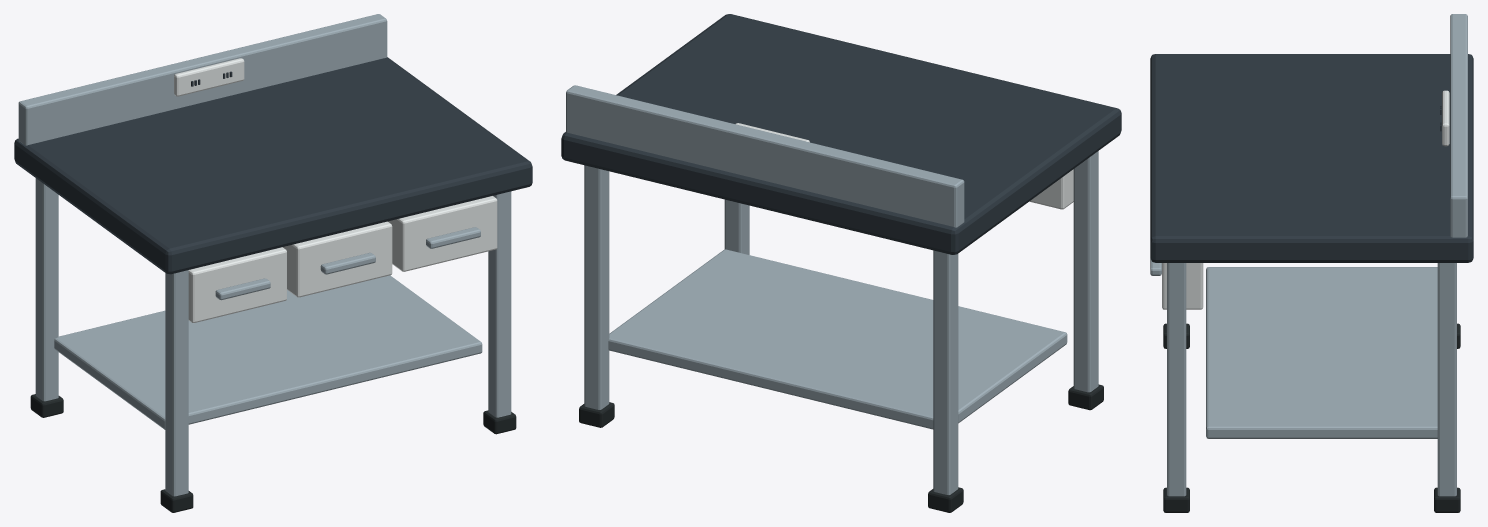
The model's file is bench.glb.
The picture shows the model from 3 angles, left to right: view 1: azimuth 30°, elevation 25°; view 2: azimuth 150°, elevation 25°; view 3: azimuth 270°, elevation 25°; orthographic projection. The views are drawn at different scales.
Parts seen in each view (by area): view 1: Worktop, Equipment shelf, Splashback, Tubular leg, Cabinet drawer.002, Cabinet drawer.001, Tubular leg.001, Cabinet drawer, Tubular leg.002, Socket plate, Drawer handle.001, Drawer handle (+4 smaller); view 2: Worktop, Equipment shelf, Splashback, Tubular leg.001, Tubular leg.003, Tubular leg, Tubular leg.002, Cabinet drawer, Rubber pad, Rubber pad.001, Rubber pad.003; view 3: Worktop, Equipment shelf, Tubular leg.002, Tubular leg.003, Splashback, Cabinet drawer.002, Rubber pad.002, Rubber pad.003, Socket plate.
Boxes of the visible parts, x1,y1,x2,y2 form: Worktop: (14, 57, 532, 274); Equipment shelf: (54, 275, 482, 429); Splashback: (18, 14, 387, 145); Tubular leg: (165, 270, 188, 496); Cabinet drawer.002: (388, 196, 497, 271); Cabinet drawer.001: (283, 221, 392, 297); Tubular leg.001: (35, 178, 58, 401); Cabinet drawer: (188, 247, 286, 323); Tubular leg.002: (488, 191, 511, 417); Socket plate: (174, 58, 244, 96); Drawer handle.001: (320, 252, 375, 274); Drawer handle: (215, 278, 270, 300); Worktop: (561, 14, 1121, 254); Equipment shelf: (608, 249, 1067, 429); Splashback: (566, 85, 964, 227); Tubular leg.001: (933, 250, 958, 494); Tubular leg.003: (584, 165, 609, 409); Tubular leg: (1073, 151, 1098, 392); Tubular leg.002: (724, 199, 749, 254); Cabinet drawer: (1029, 169, 1073, 209); Rubber pad: (1068, 384, 1103, 410); Rubber pad.001: (928, 487, 963, 512); Rubber pad.003: (579, 402, 614, 427); Worktop: (1150, 54, 1473, 262); Equipment shelf: (1206, 267, 1437, 438); Tubular leg.002: (1167, 263, 1186, 496); Tubular leg.003: (1437, 263, 1456, 496); Splashback: (1450, 14, 1467, 237); Cabinet drawer.002: (1162, 263, 1203, 309); Rubber pad.002: (1163, 487, 1189, 512); Rubber pad.003: (1434, 487, 1460, 512); Socket plate: (1442, 90, 1449, 146).
Bounding box in the file's own units: 1.5 × 1.2 × 1.1.
